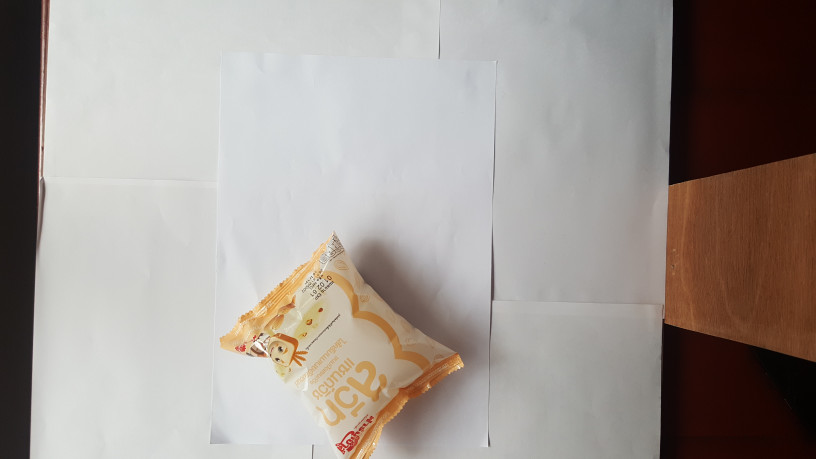farmhouse-sweetsandwich-almond: (207, 227, 470, 459)
